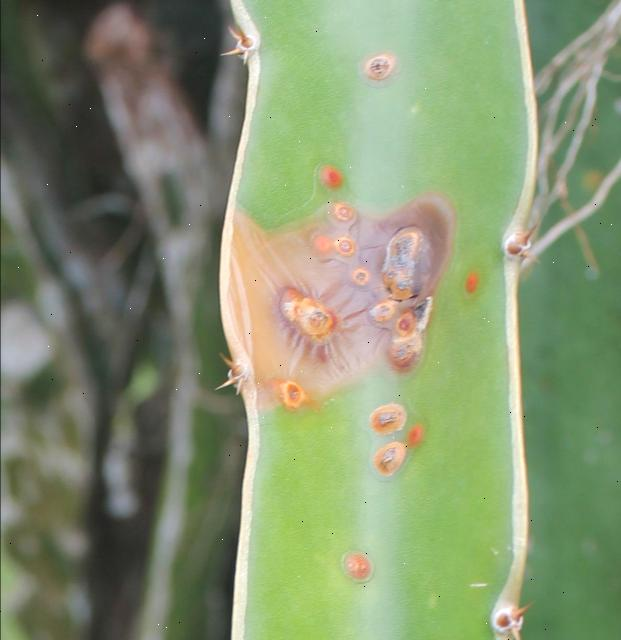stemcanker: (244, 196, 456, 396), (356, 48, 405, 89), (362, 398, 410, 438), (268, 374, 310, 417), (371, 439, 410, 481), (346, 544, 379, 587)
